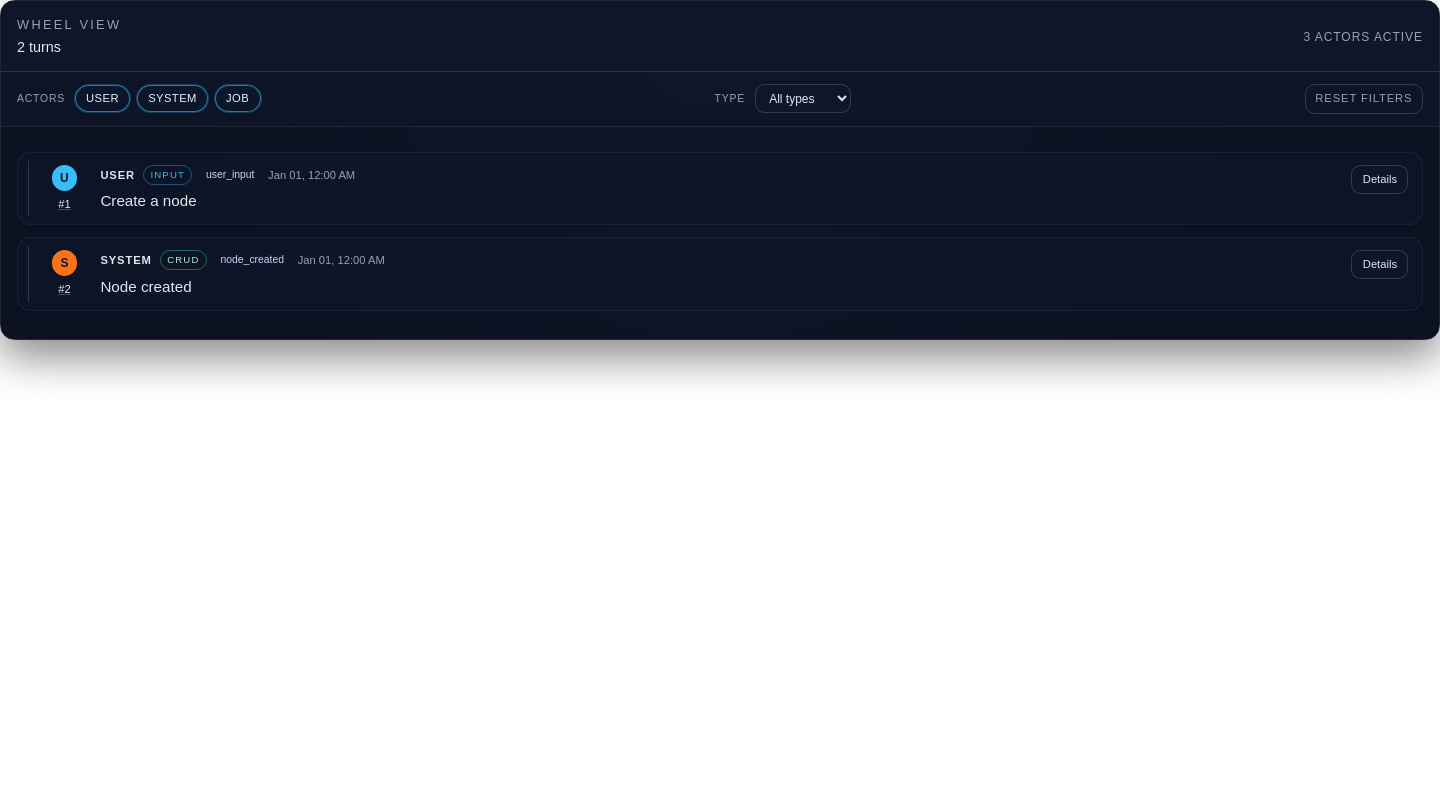
it: WheelViewPanel › renders turn summaries and shows details on expand
The image size is (1440, 810).
Check: the text "Create a node" is shown, box x1=100 y1=192 x2=197 y2=209
Check: the text "Node created" is shown, box x1=100 y1=278 x2=192 y2=294
Click the button "Details" in the row of "node_created" at (1380, 265), box x1=1351 y1=250 x2=1408 y2=279
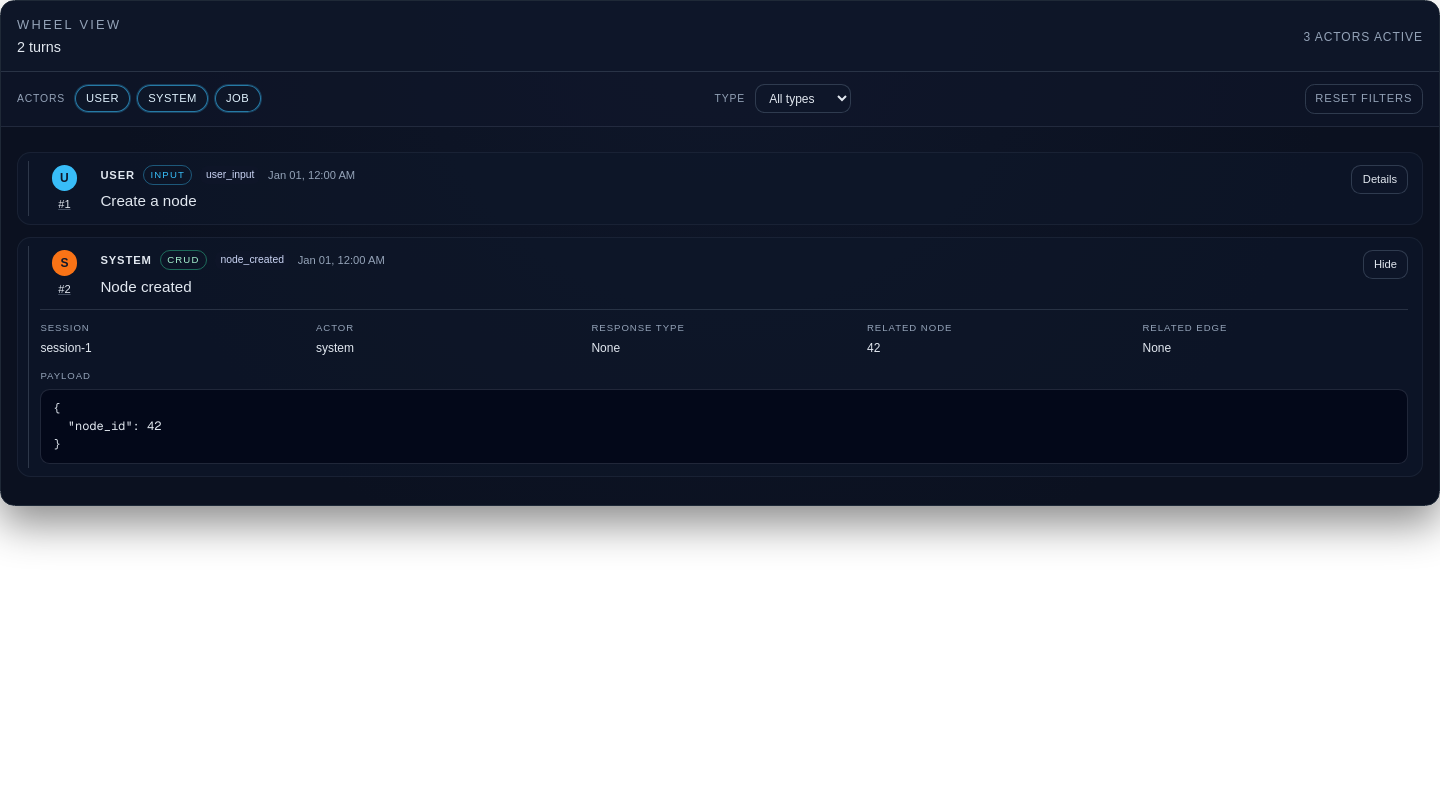
Check: the text "Payload" is shown, box x1=40 y1=370 x2=91 y2=380
Check: the text "Related node" is shown, box x1=867 y1=322 x2=952 y2=333
Check: the text "42" is shown, box x1=867 y1=340 x2=880 y2=354
